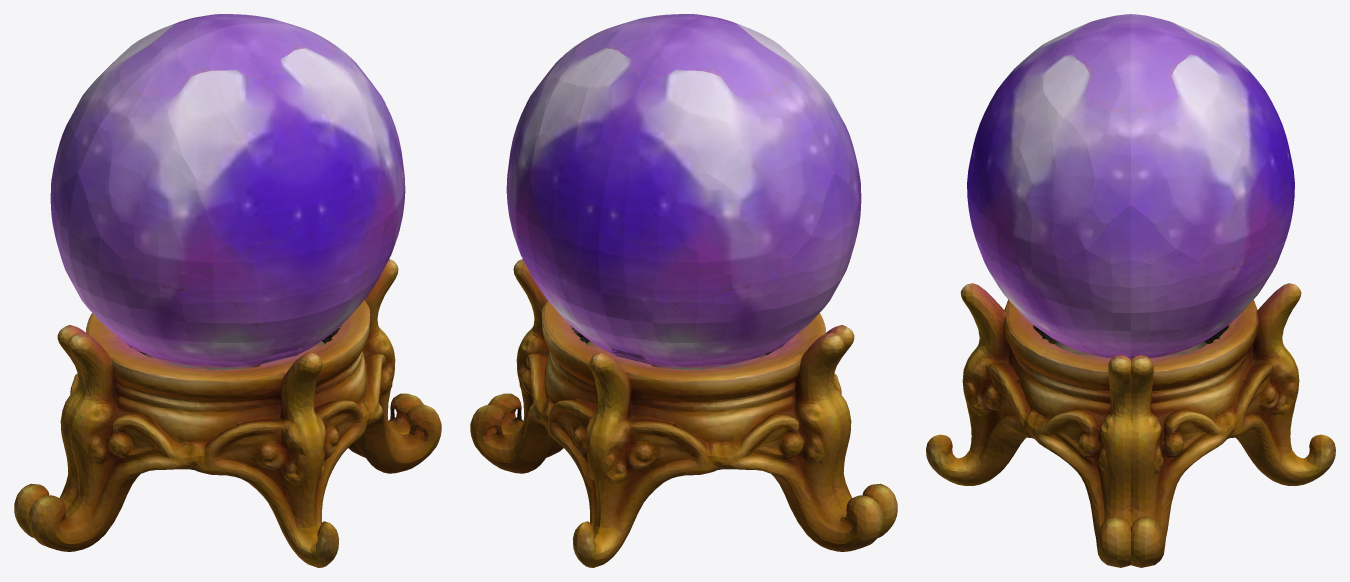
The model's file is crystal_ball.glb.
3 renders of one model, left to right at view 1: azimuth 30°, elevation 25°; view 2: azimuth 150°, elevation 25°; view 3: azimuth 270°, elevation 25°, orthographic. The views are drawn at different scales.
Parts seen in each view (by area): view 1: geometry_0; view 2: geometry_0; view 3: geometry_0.
Boxes of the visible parts, x1=… form: geometry_0: x1=14, y1=14, x2=441, y2=567; geometry_0: x1=470, y1=14, x2=897, y2=567; geometry_0: x1=926, y1=14, x2=1335, y2=567.
Bounding box in the file's own units: 0.3124 × 0.35 × 0.284.
Materials: 1 (1 with a texture image).
